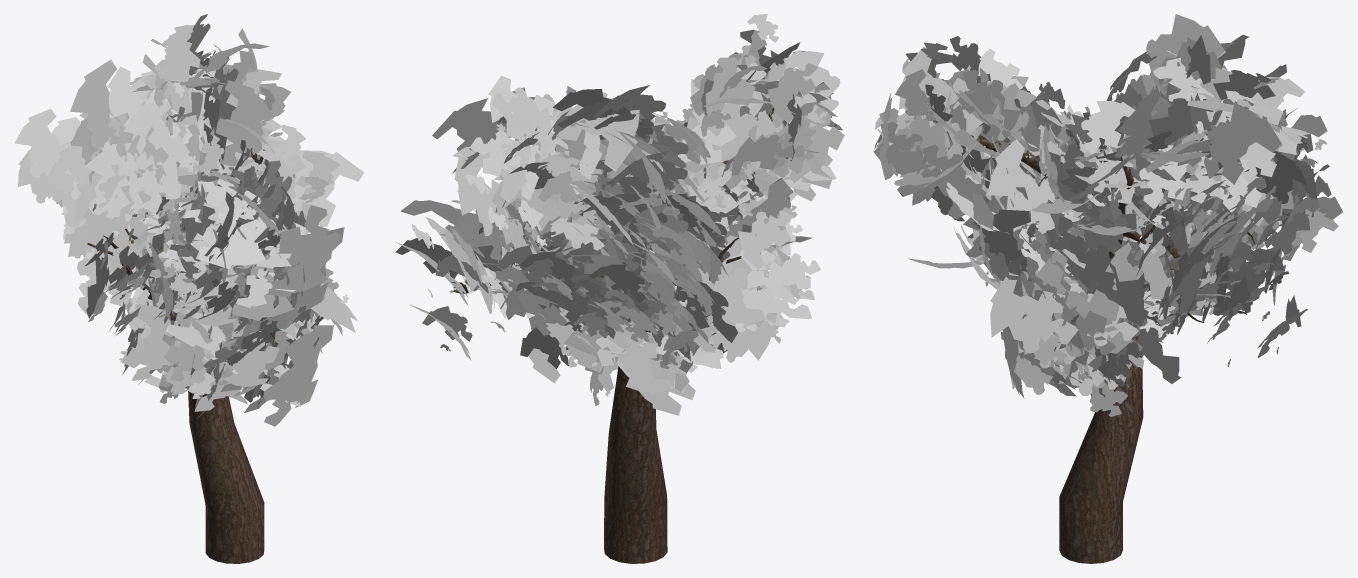
Rendered from ArbolBueno (1).fbx.
The picture shows the model from 3 angles, left to right: view 1: azimuth 30°, elevation 25°; view 2: azimuth 150°, elevation 25°; view 3: azimuth 270°, elevation 25°; orthographic projection. The views are drawn at different scales.
Parts seen in each view (by area): view 1: Cylinder.002, Cylinder.002|Tree Branch|Dupli|225, Cylinder.002|Tree Branch|Dupli|602, Cylinder.002|Tree Branch|Dupli|299, Cylinder.001|Tree Branch|Dupli|353, Cylinder.001|Tree Branch|Dupli|717, Cylinder.002|Tree Branch|Dupli|386, Cylinder.002|Tree Branch|Dupli|538, Cylinder.001|Tree Branch|Dupli|631, Cylinder.001|Tree Branch|Dupli|298, Cylinder.001|Tree Branch|Dupli|256, Cylinder.001|Tree Branch|Dupli|598 (+56 smaller); view 2: Cylinder.002, Cylinder.001|Tree Branch|Dupli|510, Cylinder.001|Tree Branch|Dupli|570, Cylinder.002|Tree Branch|Dupli|368, Cylinder.001|Tree Branch|Dupli|384, Cylinder.002|Tree Branch|Dupli|451, Cylinder.002|Tree Branch|Dupli|497, Cylinder.002|Tree Branch|Dupli|317, Cylinder.001|Tree Branch|Dupli|386, Cylinder.002|Tree Branch|Dupli|457, Cylinder.002|Tree Branch|Dupli|215, Cylinder.001|Tree Branch|Dupli|201 (+50 smaller); view 3: Cylinder.002, Cylinder.002|Tree Branch|Dupli|631, Cylinder.001|Tree Branch|Dupli|384, Cylinder.002|Tree Branch|Dupli|566, Cylinder.002|Tree Branch|Dupli|665, Cylinder.002|Tree Branch|Dupli|598, Cylinder.001|Tree Branch|Dupli|341, Cylinder.002|Tree Branch|Dupli|227, Cylinder.002|Tree Branch|Dupli|387, Cylinder.002|Tree Branch|Dupli|585, Cylinder.002|Tree Branch|Dupli|384, Cylinder.001|Tree Branch|Dupli|511 (+47 smaller).
Boxes of the visible parts, left/top/right/bottom form: Cylinder.002: left=87, top=148, right=276, bottom=563; Cylinder.002|Tree Branch|Dupli|225: left=266, top=205, right=340, bottom=296; Cylinder.002|Tree Branch|Dupli|602: left=263, top=325, right=333, bottom=426; Cylinder.002|Tree Branch|Dupli|299: left=210, top=79, right=273, bottom=166; Cylinder.001|Tree Branch|Dupli|353: left=123, top=99, right=189, bottom=184; Cylinder.001|Tree Branch|Dupli|717: left=70, top=59, right=133, bottom=148; Cylinder.002|Tree Branch|Dupli|386: left=196, top=190, right=277, bottom=268; Cylinder.002|Tree Branch|Dupli|538: left=120, top=304, right=182, bottom=380; Cylinder.001|Tree Branch|Dupli|631: left=84, top=144, right=143, bottom=237; Cylinder.001|Tree Branch|Dupli|298: left=15, top=108, right=70, bottom=177; Cylinder.001|Tree Branch|Dupli|256: left=43, top=145, right=91, bottom=227; Cylinder.001|Tree Branch|Dupli|598: left=285, top=150, right=364, bottom=226; Cylinder.002: left=604, top=108, right=774, bottom=563; Cylinder.001|Tree Branch|Dupli|510: left=550, top=92, right=639, bottom=171; Cylinder.001|Tree Branch|Dupli|570: left=492, top=87, right=552, bottom=162; Cylinder.002|Tree Branch|Dupli|368: left=686, top=103, right=776, bottom=188; Cylinder.001|Tree Branch|Dupli|384: left=432, top=98, right=506, bottom=158; Cylinder.002|Tree Branch|Dupli|451: left=618, top=333, right=672, bottom=394; Cylinder.002|Tree Branch|Dupli|497: left=738, top=210, right=792, bottom=270; Cylinder.002|Tree Branch|Dupli|317: left=713, top=255, right=766, bottom=326; Cylinder.001|Tree Branch|Dupli|386: left=469, top=131, right=538, bottom=201; Cylinder.002|Tree Branch|Dupli|457: left=712, top=313, right=776, bottom=362; Cylinder.002|Tree Branch|Dupli|215: left=686, top=57, right=755, bottom=121; Cylinder.001|Tree Branch|Dupli|201: left=454, top=153, right=510, bottom=235; Cylinder.002: left=976, top=135, right=1175, bottom=563; Cylinder.002|Tree Branch|Dupli|631: left=990, top=272, right=1078, bottom=353; Cylinder.001|Tree Branch|Dupli|384: left=1204, top=102, right=1282, bottom=184; Cylinder.002|Tree Branch|Dupli|566: left=987, top=139, right=1057, bottom=233; Cylinder.002|Tree Branch|Dupli|665: left=1069, top=235, right=1148, bottom=327; Cylinder.002|Tree Branch|Dupli|598: left=1031, top=249, right=1131, bottom=356; Cylinder.001|Tree Branch|Dupli|341: left=1142, top=14, right=1225, bottom=95; Cylinder.002|Tree Branch|Dupli|227: left=957, top=69, right=1020, bottom=143; Cylinder.002|Tree Branch|Dupli|387: left=921, top=144, right=982, bottom=219; Cylinder.002|Tree Branch|Dupli|585: left=873, top=122, right=932, bottom=196; Cylinder.002|Tree Branch|Dupli|384: left=899, top=46, right=982, bottom=132; Cylinder.001|Tree Branch|Dupli|511: left=1081, top=101, right=1135, bottom=154.
Bounding box in the file's own units: 579 × 820 × 687.
